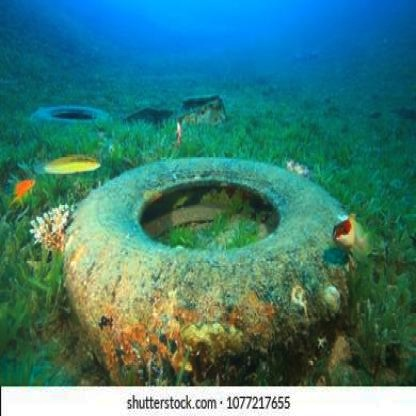tire: (69, 183, 349, 361), (37, 92, 112, 141)
